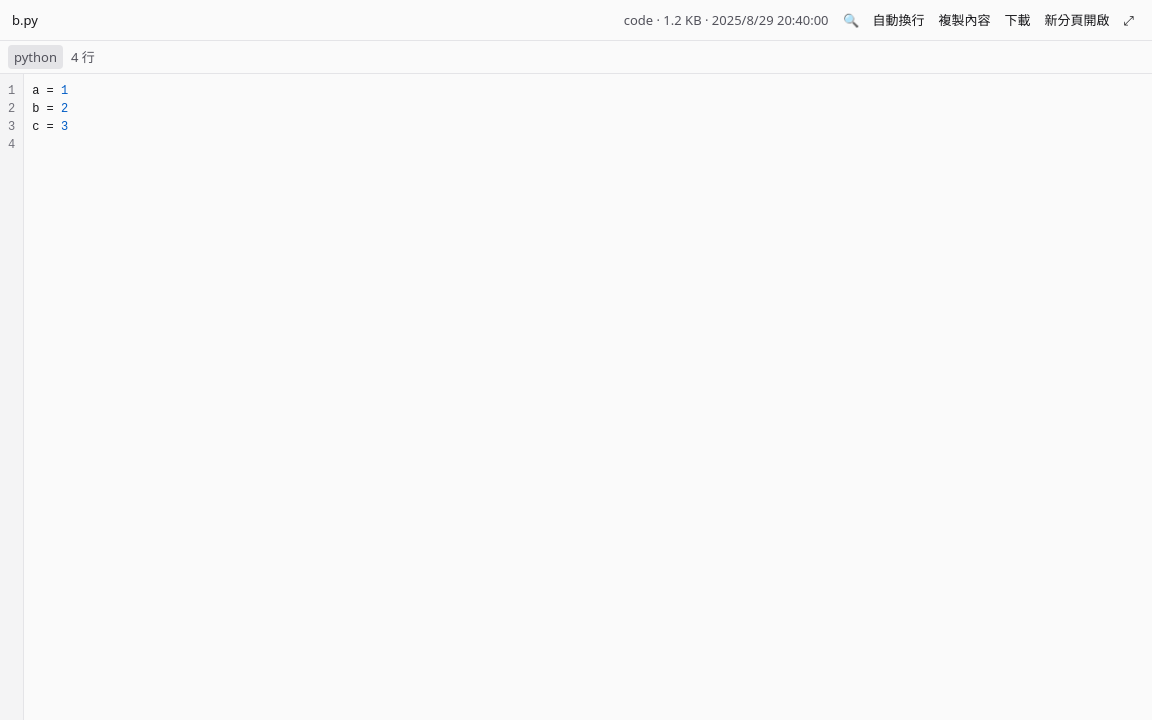
Test: FilePreview 各格式 › code：行號、語言標籤、換行切換
Expected: the text with test id "code-lang" reads "python", [14, 48, 57, 66]
What coordinates should you click on to do the following:
click the button with test id "preview-wrap"
I would click on:
 (898, 20)
Its box is [866, 8, 930, 32].
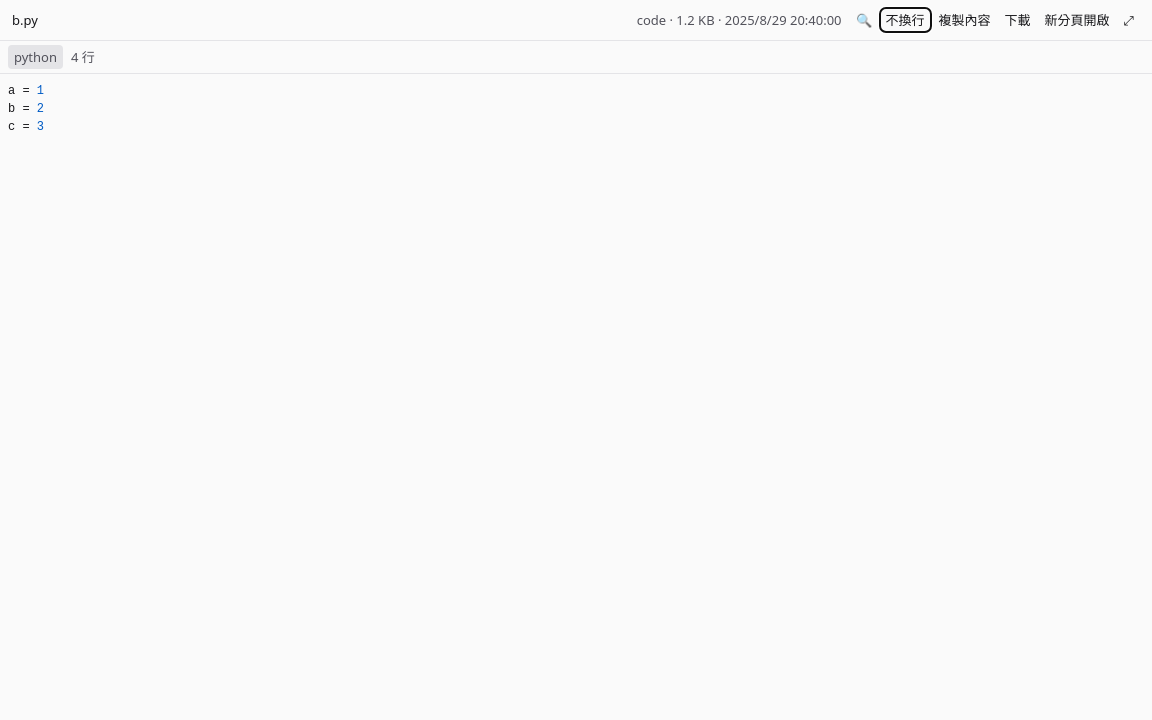
Expected: the element with test id "code-gutter" is gone
